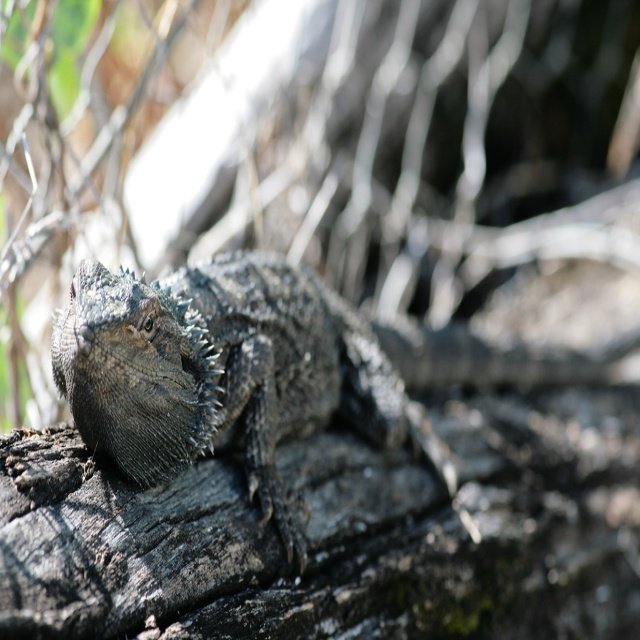Lizard: (66, 189, 533, 611)
